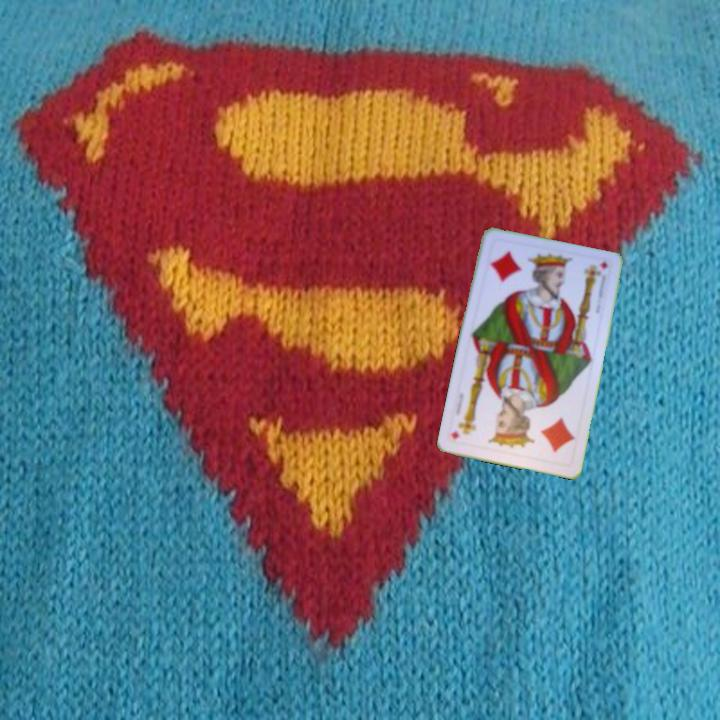d_k.png: (478, 237, 554, 306), (507, 399, 583, 468)
